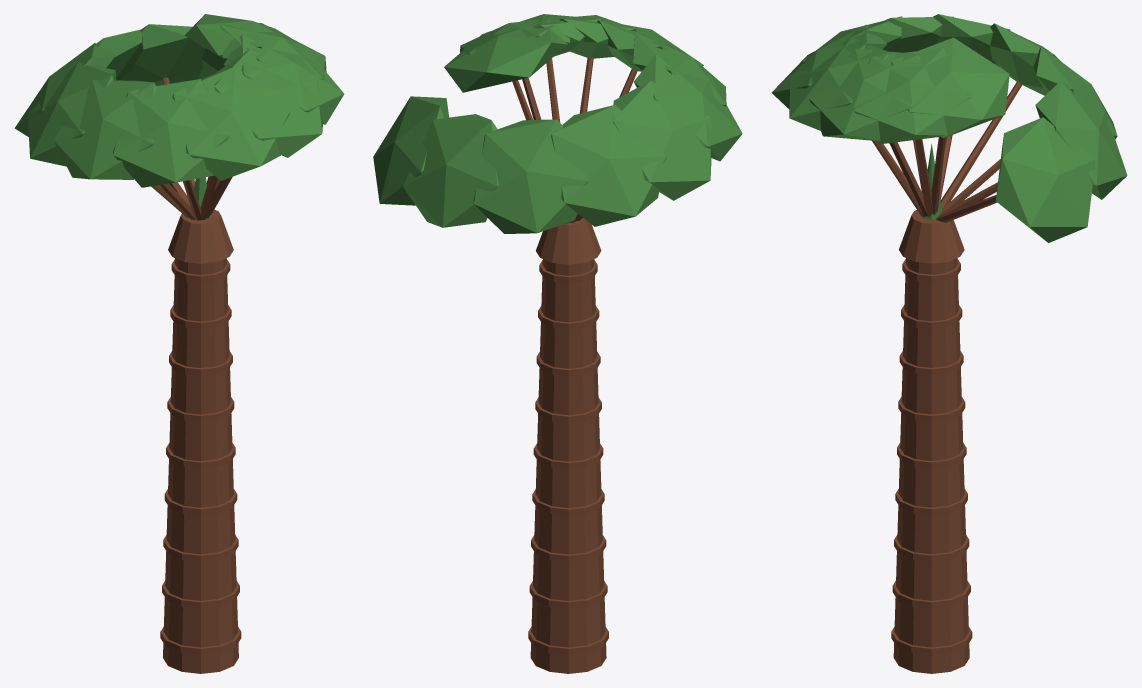
File: palm_tree.glb
The picture shows the model from 3 angles, left to right: view 1: azimuth 30°, elevation 25°; view 2: azimuth 150°, elevation 25°; view 3: azimuth 270°, elevation 25°; orthographic projection.
Parts seen in each view (by area): view 1: PalmTree_Frond, PalmTree_Trunk, PalmTree_Scar; view 2: PalmTree_Frond, PalmTree_Trunk, PalmTree_Scar; view 3: PalmTree_Frond, PalmTree_Trunk, PalmTree_Scar.
Part boxes in pixels (box(x1,y1,x2,y2)): PalmTree_Frond: box(14, 14, 344, 219); PalmTree_Trunk: box(151, 77, 238, 673); PalmTree_Scar: box(160, 259, 241, 655); PalmTree_Frond: box(373, 14, 742, 233); PalmTree_Trunk: box(512, 58, 637, 673); PalmTree_Scar: box(528, 260, 608, 655); PalmTree_Frond: box(771, 14, 1127, 242); PalmTree_Trunk: box(872, 81, 1022, 673); PalmTree_Scar: box(891, 259, 972, 655).
Bounding box in the file's own units: 0.2763 × 0.5424 × 0.2807.
